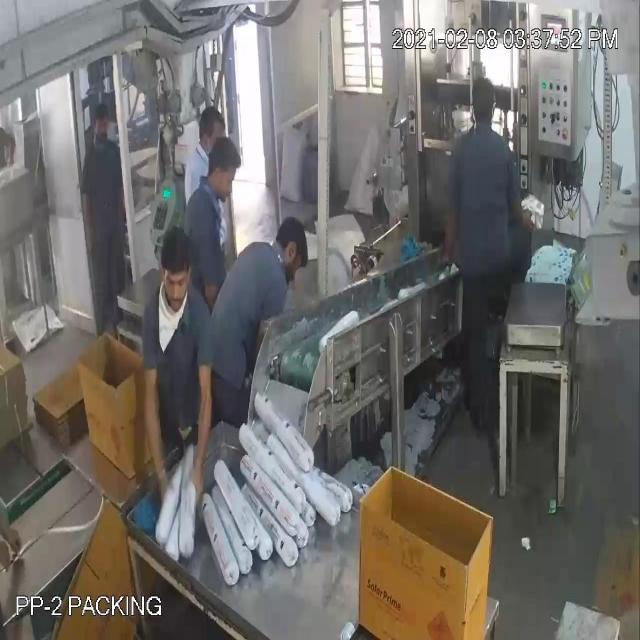No_Gloves: (24, 82, 201, 424)
